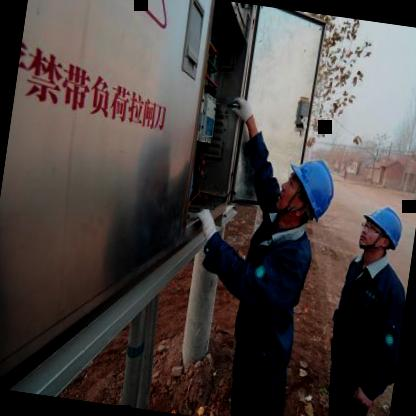helmet: (270, 146, 349, 238), (352, 197, 408, 266)
